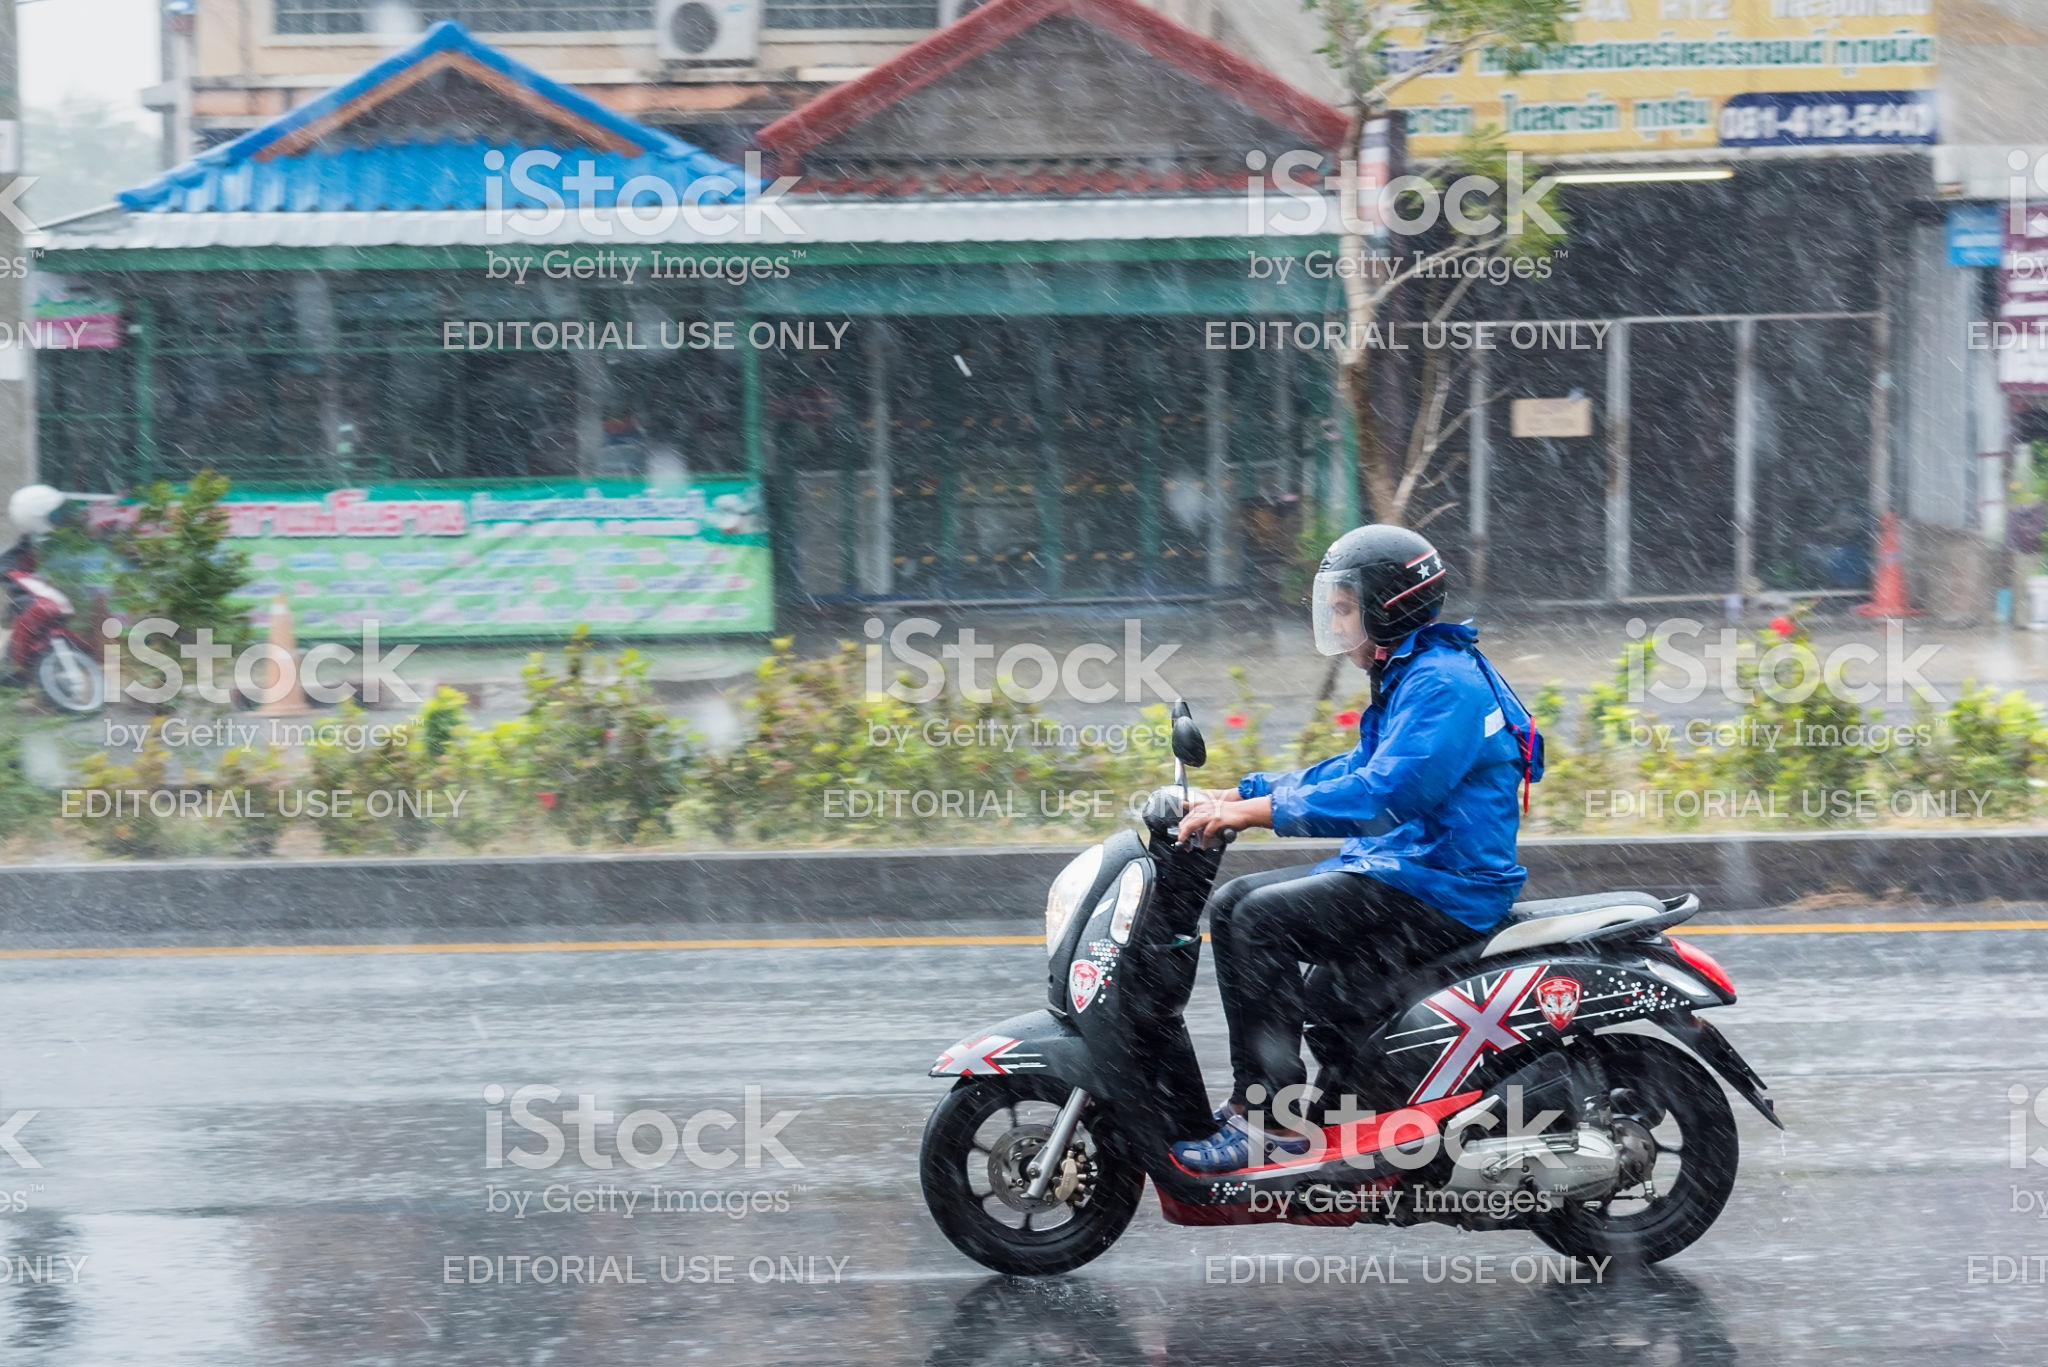helmet: (1298, 522, 1462, 635)
